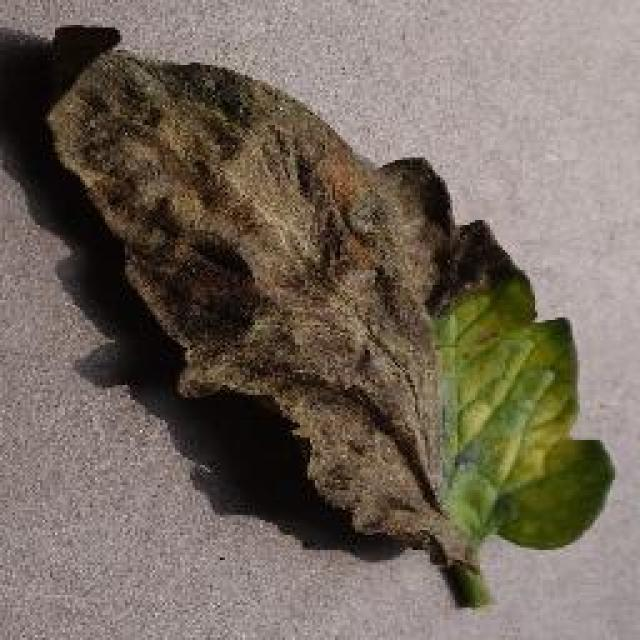Tomato late blight leaf: (43, 20, 617, 550)
